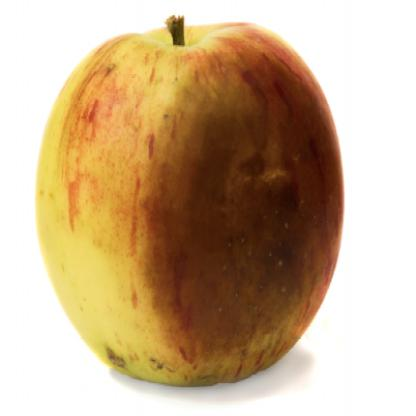Rotten Apple: (38, 24, 343, 384)
